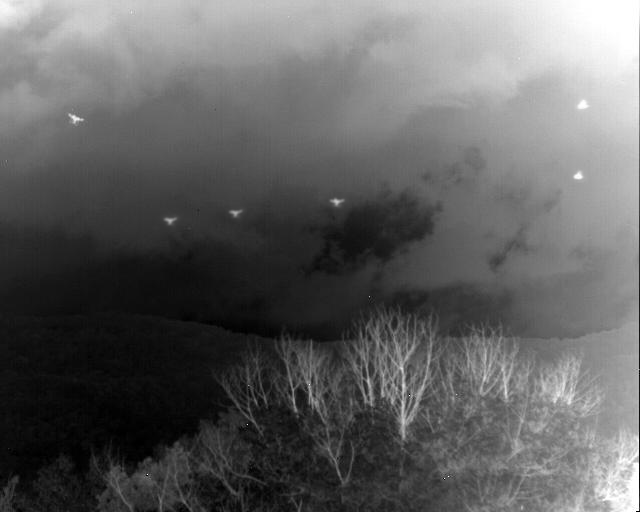plane: (67, 111, 84, 124), (329, 197, 345, 207), (228, 209, 244, 218), (163, 216, 177, 226)
